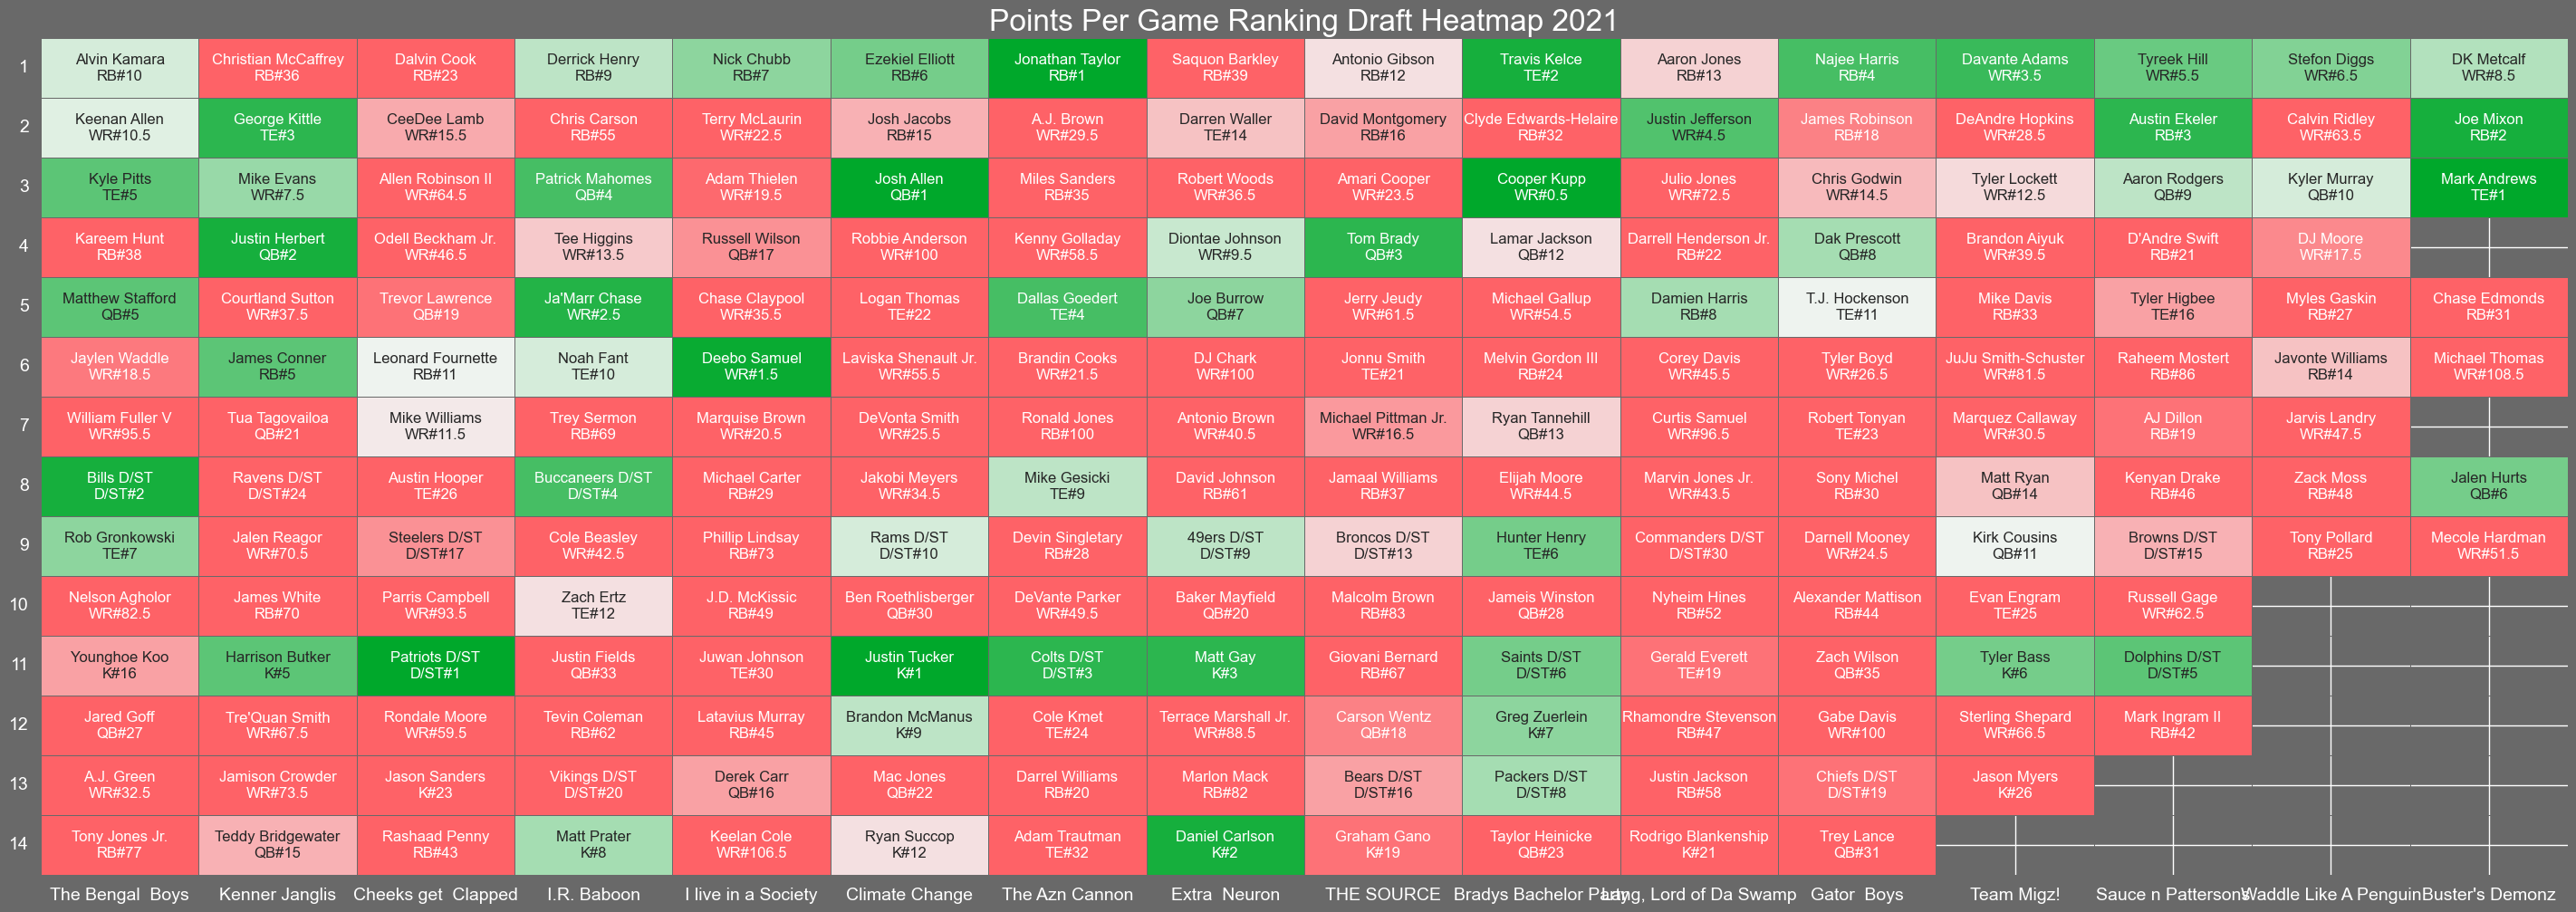

What the dashboard file says about the page in this screenshot:
{"tool":"powerbi","page":{"name":"Page 3","canvas":[1280,720],"ordinal":2},"visuals":[{"type":"pivotTable","fields":{"Rows":["Query1.round","Query1.playername"],"Columns":["Query1.pick"],"Values":["Sum(Query1.total)"]},"box":[0,0,1280,720],"z":1}]}

Visuals, with their boxes on the page's 1280x720 design canvas (x1, y1, x2, y2). These are canvas units, not pixel positions in the 2576x912 screenshot, which may show the page scaled, cropped or inside an application window:
pivotTable - Query1.round x Query1.playername: [0,0,1280,720]
